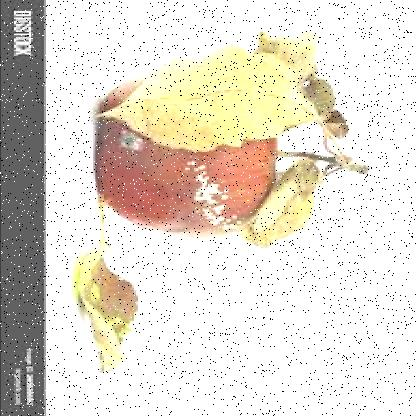damaged_apple: (99, 60, 300, 234)
